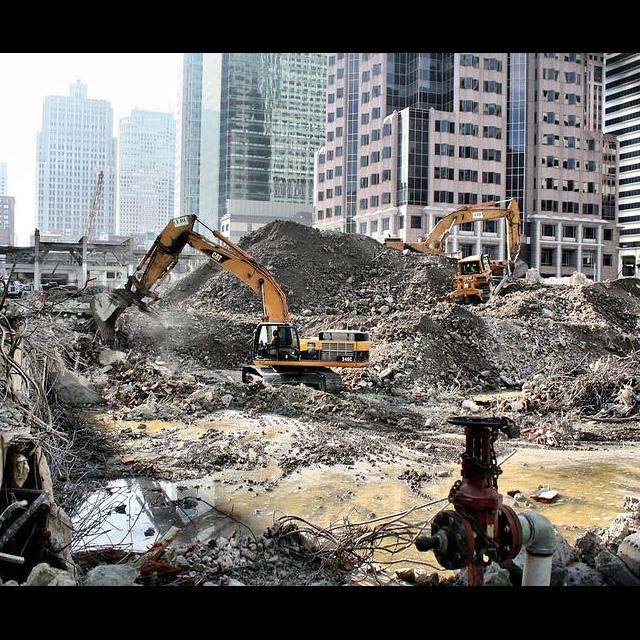Excavator: (91, 212, 372, 398), (383, 198, 529, 282)
NO-Hardhat: (272, 330, 277, 335)
Person: (266, 329, 279, 347), (468, 264, 476, 274)
Safety Vest: (469, 267, 476, 273)
dump truck: (7, 280, 19, 295)
wheel loader: (446, 255, 508, 304)
